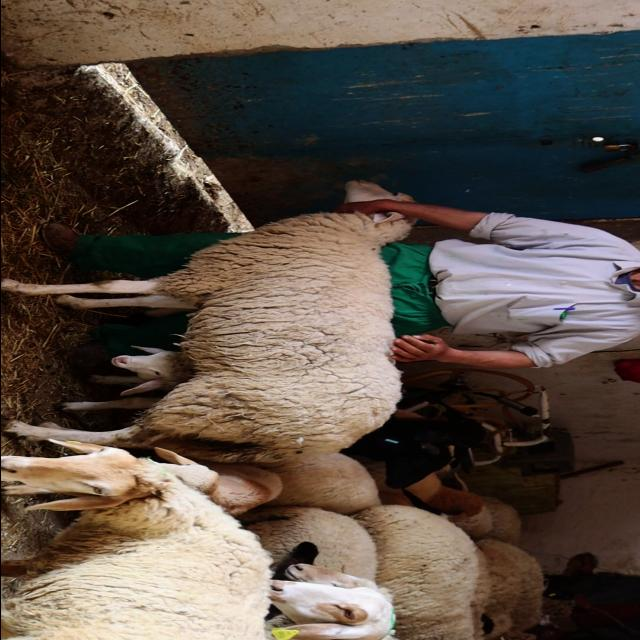Score_3: (1, 212, 415, 465)
